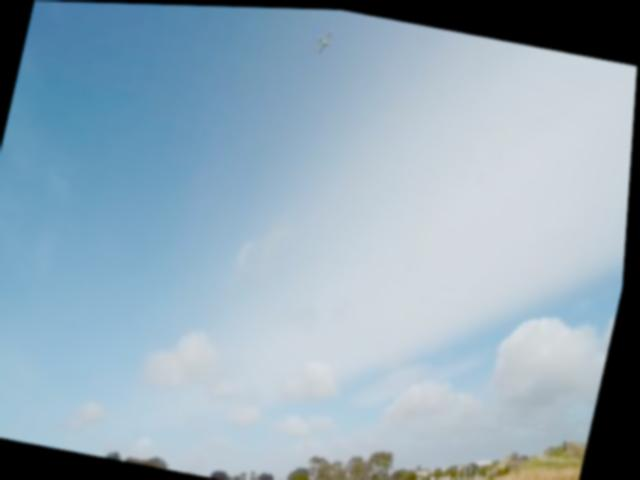uav: (307, 19, 338, 58)
